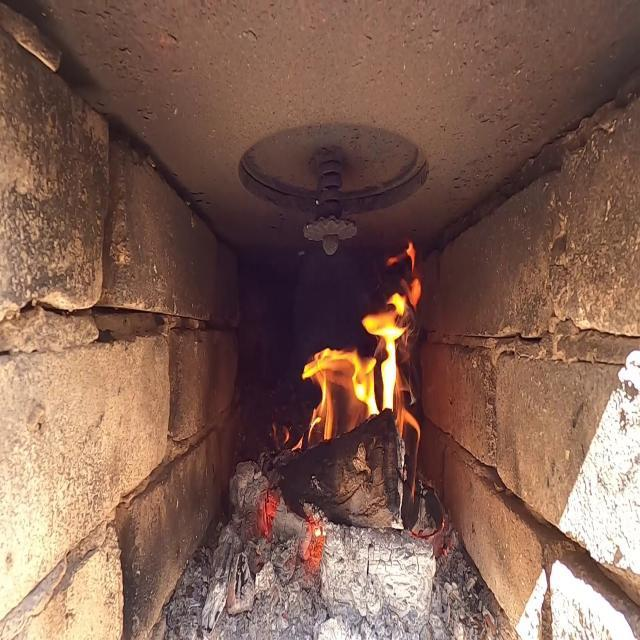Fire: (297, 282, 428, 446)
